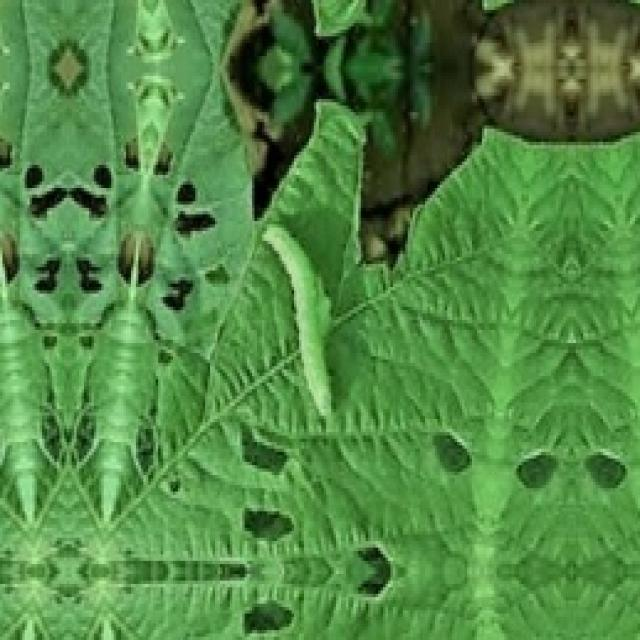armyworm: (268, 220, 345, 415)
